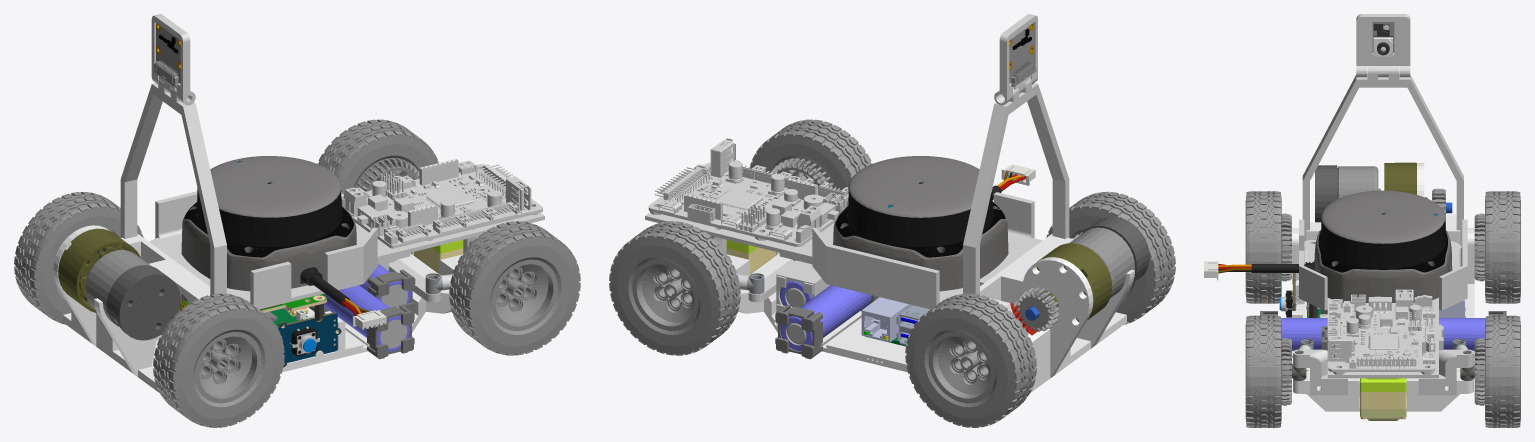
Rendered from vehicle_v7.glb.
3 views of the same model, side by side, from view 1: azimuth 30°, elevation 25°; view 2: azimuth 150°, elevation 25°; view 3: azimuth 270°, elevation 25° (orthographic). The views are drawn at different scales.
Parts seen in each view (by area): view 1: Llanta#181/Llanta__137_0, Llanta#187/Llanta__137_0, placa de hiwonder#174/placa_de_hiwonder__134_0, Base#2/Base__0_0, lidar2 v1#173/lidar2_v1__133_1, Soporte de hiwonder-lidar#130/Soporte_de_hiwonder-lidar__107, Llanta#184/Llanta__137_0, camera#176/camera__136_0, Llanta#178/Llanta__137_0, lidar2 v1#173/lidar2_v1__133_4, motor hiwonder#3/motor_hiwonder__1_3, lidar2 v1#173/lidar2_v1__133_2 (+15 smaller); view 2: Llanta#178/Llanta__137_0, Llanta#184/Llanta__137_0, Base#2/Base__0_0, placa de hiwonder#174/placa_de_hiwonder__134_0, Soporte de hiwonder-lidar#130/Soporte_de_hiwonder-lidar__107, lidar2 v1#173/lidar2_v1__133_1, camera#176/camera__136_0, Llanta#187/Llanta__137_0, Llanta#181/Llanta__137_0, lidar2 v1#173/lidar2_v1__133_2, lidar2 v1#173/lidar2_v1__133_4, 18650#156/18650__125_0 (+14 smaller); view 3: placa de hiwonder#174/placa_de_hiwonder__134_0, lidar2 v1#173/lidar2_v1__133_1, Base#2/Base__0_0, Llanta#181/Llanta__137_0, Llanta#184/Llanta__137_0, Llanta#178/Llanta__137_0, Llanta#187/Llanta__137_0, camera#176/camera__136_0, lidar2 v1#173/lidar2_v1__133_4, lidar2 v1#173/lidar2_v1__133_2, Soporte de hiwonder-lidar#130/Soporte_de_hiwonder-lidar__107, camara visagra#175/camara_visagra__135_0 (+18 smaller).
Part boxes in pixels (x1,y1,x2,y2): Llanta#181/Llanta__137_0: (449,221,580,355); Llanta#187/Llanta__137_0: (153,293,284,427); placa de hiwonder#174/placa_de_hiwonder__134_0: (341,159,542,248); Base#2/Base__0_0: (53,225,463,392); lidar2 v1#173/lidar2_v1__133_1: (197,156,341,286); Soporte de hiwonder-lidar#130/Soporte_de_hiwonder-lidar__107: (149,191,410,309); Llanta#184/Llanta__137_0: (14,191,143,324); camera#176/camera__136_0: (120,79,226,294); Llanta#178/Llanta__137_0: (317,119,438,194); lidar2 v1#173/lidar2_v1__133_4: (181,205,356,291); motor hiwonder#3/motor_hiwonder__1_3: (106,265,180,340); lidar2 v1#173/lidar2_v1__133_2: (196,182,342,247); Llanta#178/Llanta__137_0: (609,221,740,355); Llanta#184/Llanta__137_0: (905,293,1036,427); Base#2/Base__0_0: (726,234,1134,392); placa de hiwonder#174/placa_de_hiwonder__134_0: (648,138,848,246); Soporte de hiwonder-lidar#130/Soporte_de_hiwonder-lidar__107: (779,192,1042,309); lidar2 v1#173/lidar2_v1__133_1: (848,156,992,217); camera#176/camera__136_0: (963,78,1069,294); Llanta#187/Llanta__137_0: (1046,191,1175,324); Llanta#181/Llanta__137_0: (749,119,872,193); lidar2 v1#173/lidar2_v1__133_2: (847,182,993,246); lidar2 v1#173/lidar2_v1__133_4: (833,205,1008,291); 18650#156/18650__125_0: (780,285,871,350); placa de hiwonder#174/placa_de_hiwonder__134_0: (1327,289,1435,371); lidar2 v1#173/lidar2_v1__133_1: (1321,190,1451,271); Base#2/Base__0_0: (1292,163,1474,411); Llanta#181/Llanta__137_0: (1245,315,1281,427); Llanta#184/Llanta__137_0: (1485,191,1520,303); Llanta#178/Llanta__137_0: (1485,315,1520,427); Llanta#187/Llanta__137_0: (1245,191,1281,303); camera#176/camera__136_0: (1302,66,1463,246); lidar2 v1#173/lidar2_v1__133_4: (1314,230,1452,302); lidar2 v1#173/lidar2_v1__133_2: (1320,213,1445,268); Soporte de hiwonder-lidar#130/Soporte_de_hiwonder-lidar__107: (1299,219,1467,310); camara visagra#175/camara_visagra__135_0: (1356,14,1410,77).
Size of the model in its own units: 243 by 179 by 176.
